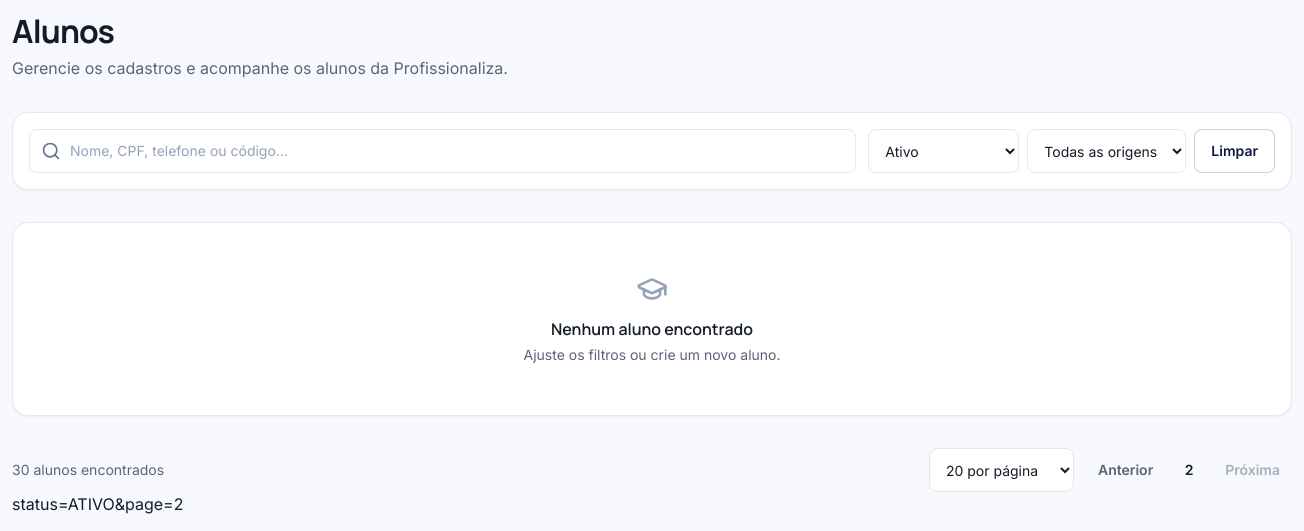
Scenario: StudentsPage — persistência de filtros na URL (Fase 7) › alterar filtro reseta page para 1
Step 1. Select "Inativo" in the dropdown named "Filtrar por status" → (944, 151), box left=868, top=129, right=1019, bottom=173
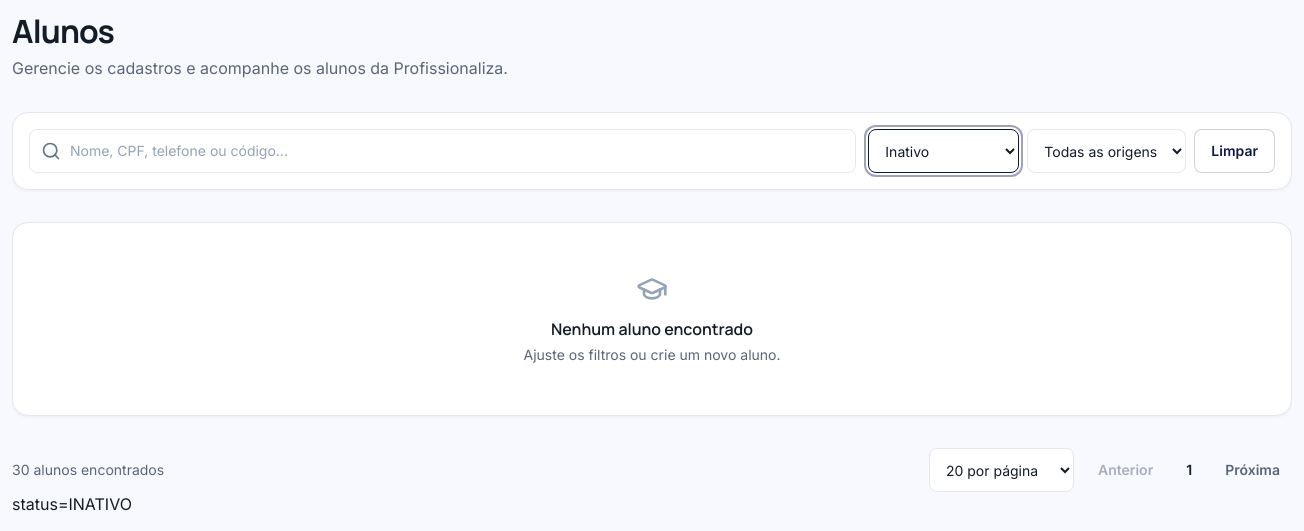
Result: the text with test id "location-search" no longer shows "page="
